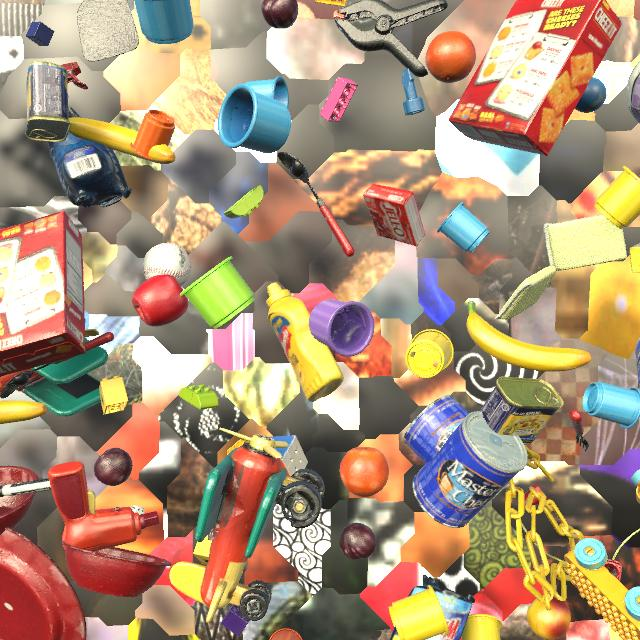ycb_002_master_chef_can: (412, 411, 528, 528), (404, 395, 514, 504), (635, 337, 640, 391)
ycb_003_cracker_box: (448, 0, 622, 156), (0, 211, 86, 377)
ycb_004_sugar_box: (629, 243, 640, 272)
ycb_006_mustard_bottle: (266, 283, 344, 402)
ycb_009_gelatin_box: (363, 184, 425, 247)
ycb_010_potted_meat_can: (480, 377, 564, 445), (25, 61, 71, 142)
ycb_011_banana: (466, 301, 591, 372), (69, 118, 175, 164), (0, 400, 47, 424)
ycb_013_apple: (132, 274, 188, 327)
ycb_015_peach: (527, 596, 571, 640)
ycb_017_orange: (425, 31, 476, 83), (340, 447, 389, 497)
ycb_018_plum: (94, 448, 133, 486), (339, 523, 376, 560), (261, 0, 298, 29)
